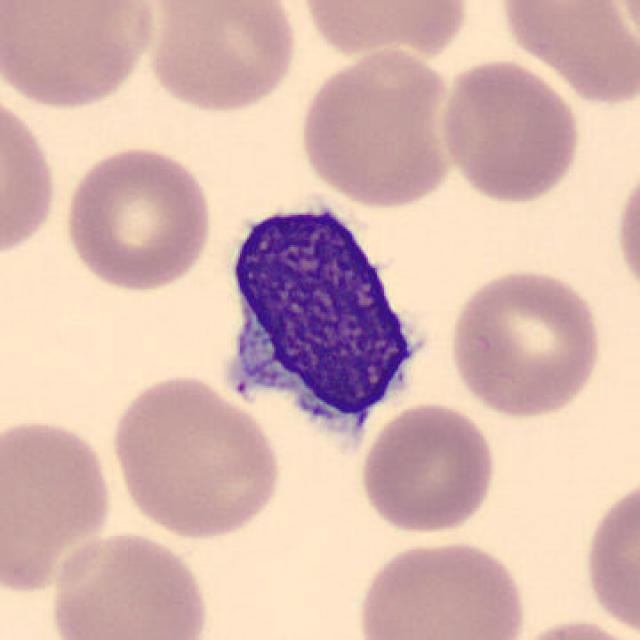Lymphocyte: (210, 189, 437, 451)
RBC: (107, 370, 286, 543), (295, 44, 461, 210), (444, 264, 606, 420), (59, 141, 215, 294), (435, 56, 585, 206), (0, 412, 117, 595), (356, 398, 500, 536), (45, 527, 214, 640), (352, 536, 530, 640), (0, 0, 162, 113), (143, 0, 300, 116), (494, 0, 638, 109), (293, 0, 473, 60), (0, 86, 60, 264), (580, 473, 638, 638), (611, 156, 640, 308), (502, 615, 638, 640)
